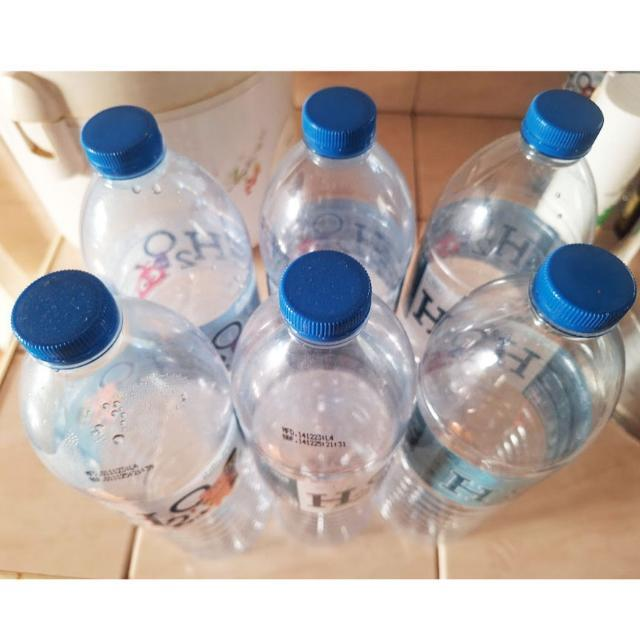PET Bottle: (18, 238, 245, 556), (193, 253, 419, 571), (419, 234, 640, 556), (0, 68, 266, 289), (426, 67, 629, 263), (267, 80, 439, 284)
